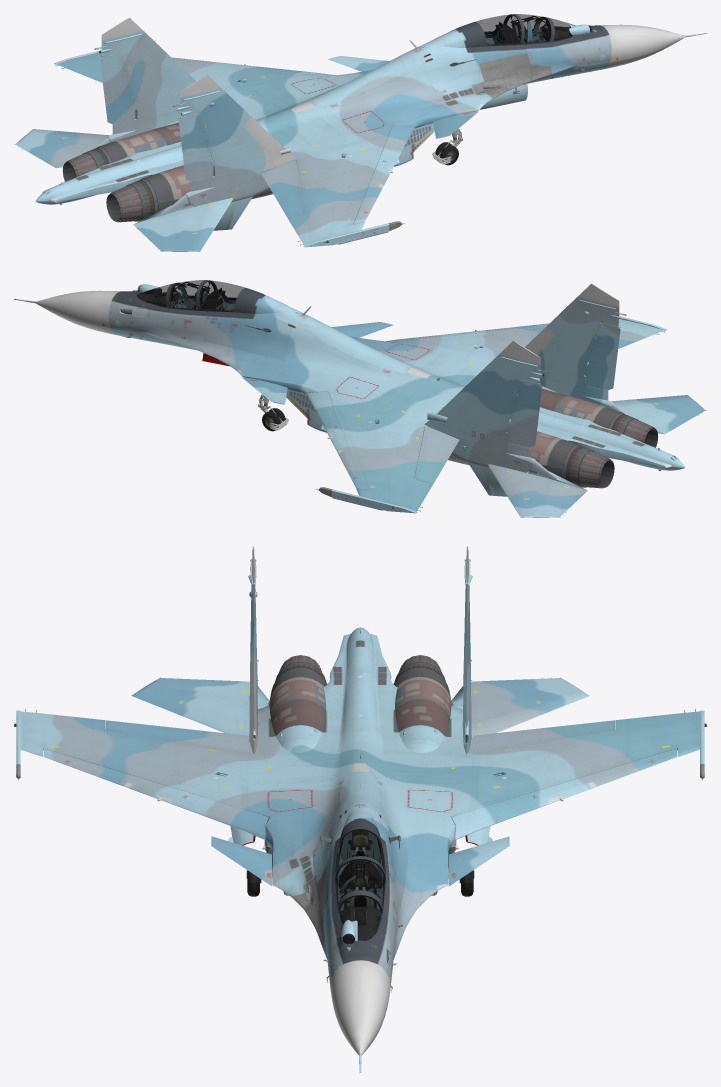
The picture shows the model from 3 angles, top to bottom: view 1: azimuth 30°, elevation 25°; view 2: azimuth 150°, elevation 25°; view 3: azimuth 270°, elevation 25°; orthographic projection. The views are drawn at different scales.
Visible parts, largest first — view 1: Object_8, Object_2, Object_3, Object_9; view 2: Object_8, Object_2, Object_3, Object_9; view 3: Object_8, Object_2, Object_3, Object_9.
Boxes of the visible parts, left/top/right/bottom form: Object_8: left=14, top=14, right=706, bottom=251; Object_2: left=475, top=14, right=575, bottom=44; Object_3: left=484, top=14, right=571, bottom=45; Object_9: left=394, top=84, right=527, bottom=165; Object_8: left=14, top=280, right=706, bottom=517; Object_2: left=137, top=280, right=245, bottom=310; Object_3: left=136, top=280, right=236, bottom=311; Object_9: left=202, top=353, right=326, bottom=431; Object_8: left=14, top=546, right=706, bottom=1072; Object_2: left=335, top=829, right=385, bottom=940; Object_3: left=335, top=829, right=385, bottom=940; Object_9: left=228, top=826, right=492, bottom=896.
Size of what is drawn, in the model's own units: 226 by 63.4 by 148.
Materials: 6 (2 with a texture image).
